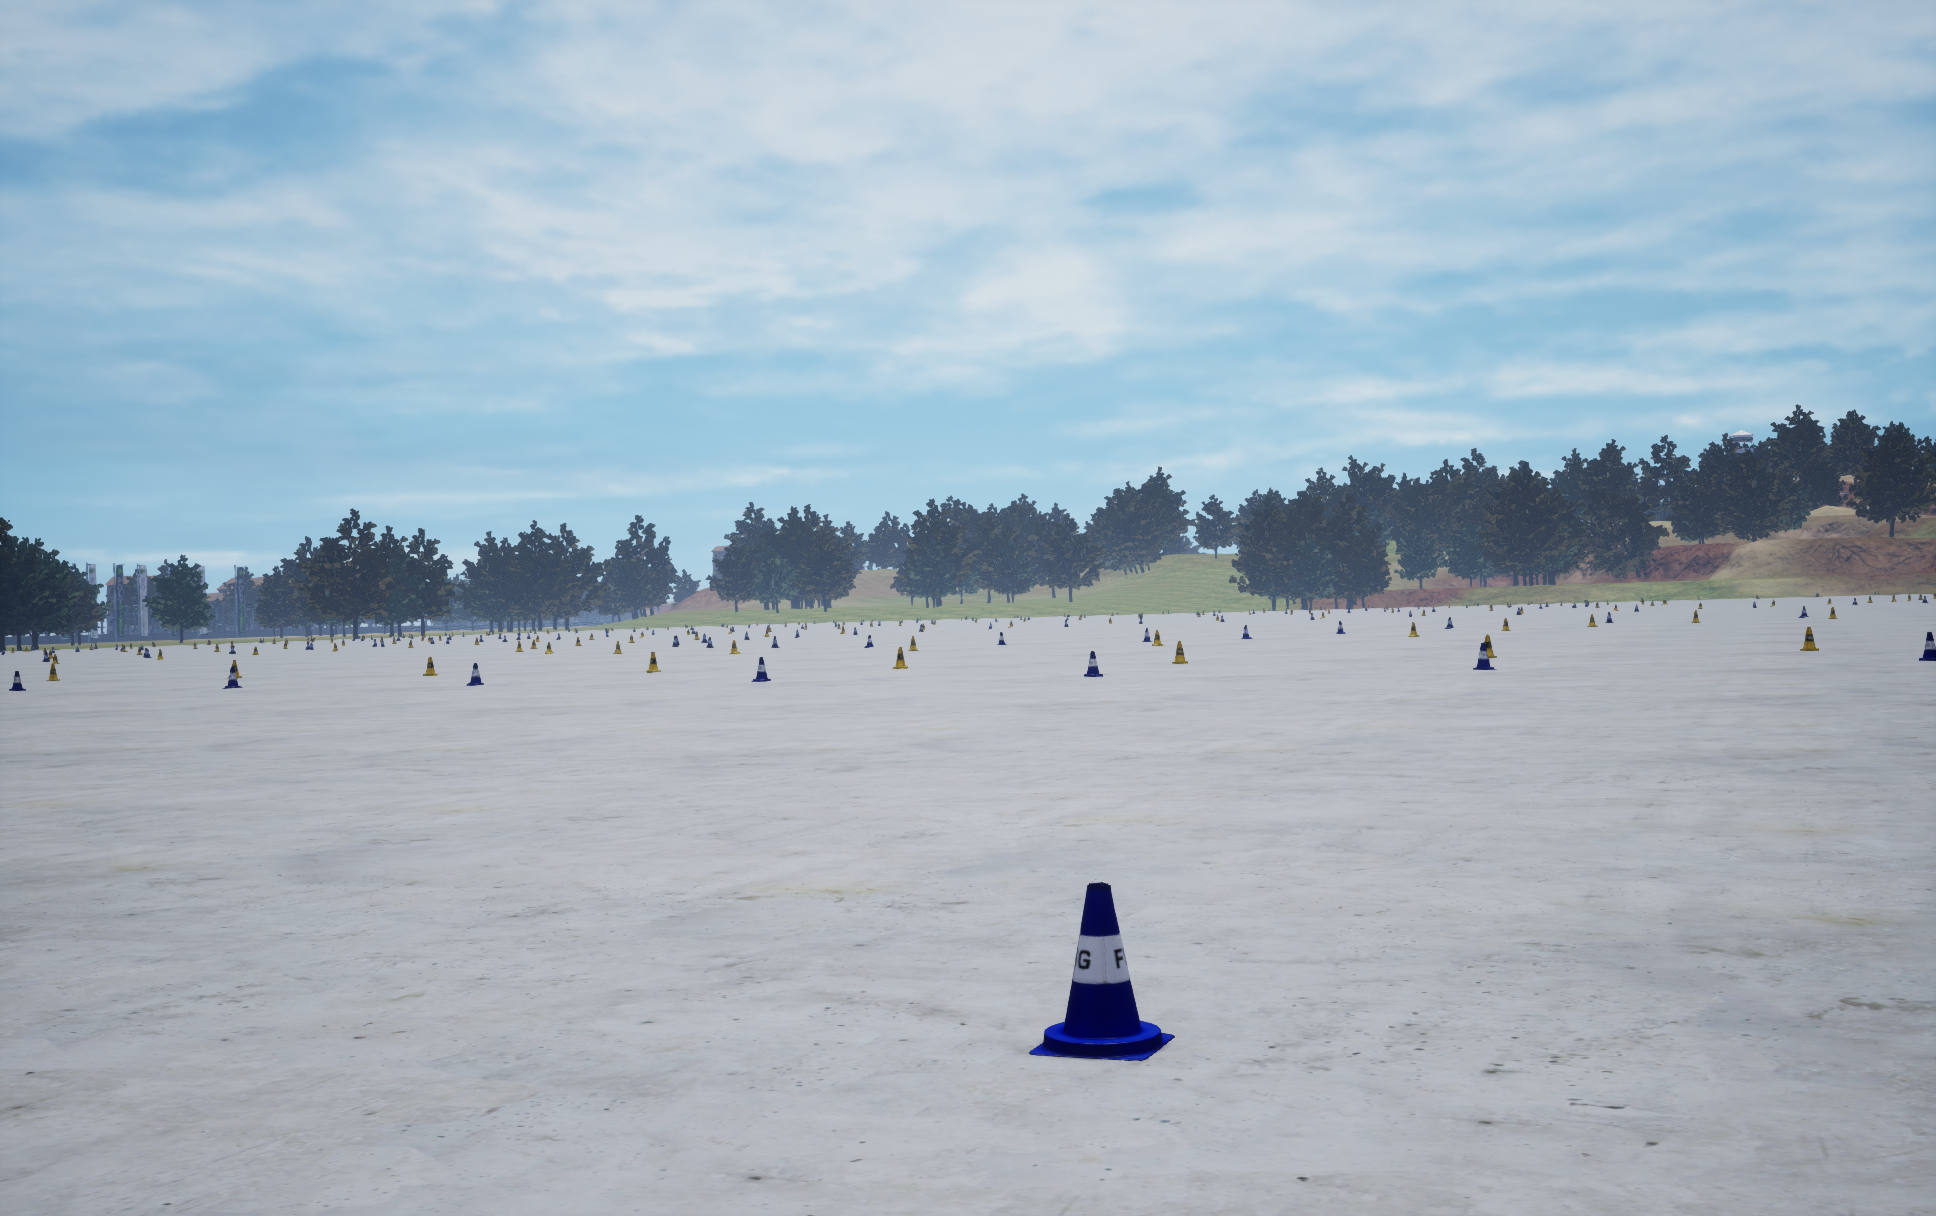blue: (1800, 628, 1818, 650), (1173, 642, 1187, 663), (892, 647, 906, 668), (646, 651, 660, 672), (1484, 635, 1496, 657), (423, 657, 437, 675)
yellow: (1030, 883, 1174, 1060), (1472, 643, 1496, 670), (751, 657, 770, 681), (1084, 651, 1102, 677), (221, 667, 242, 688), (1919, 632, 1935, 660), (466, 663, 483, 685), (8, 671, 25, 691)
